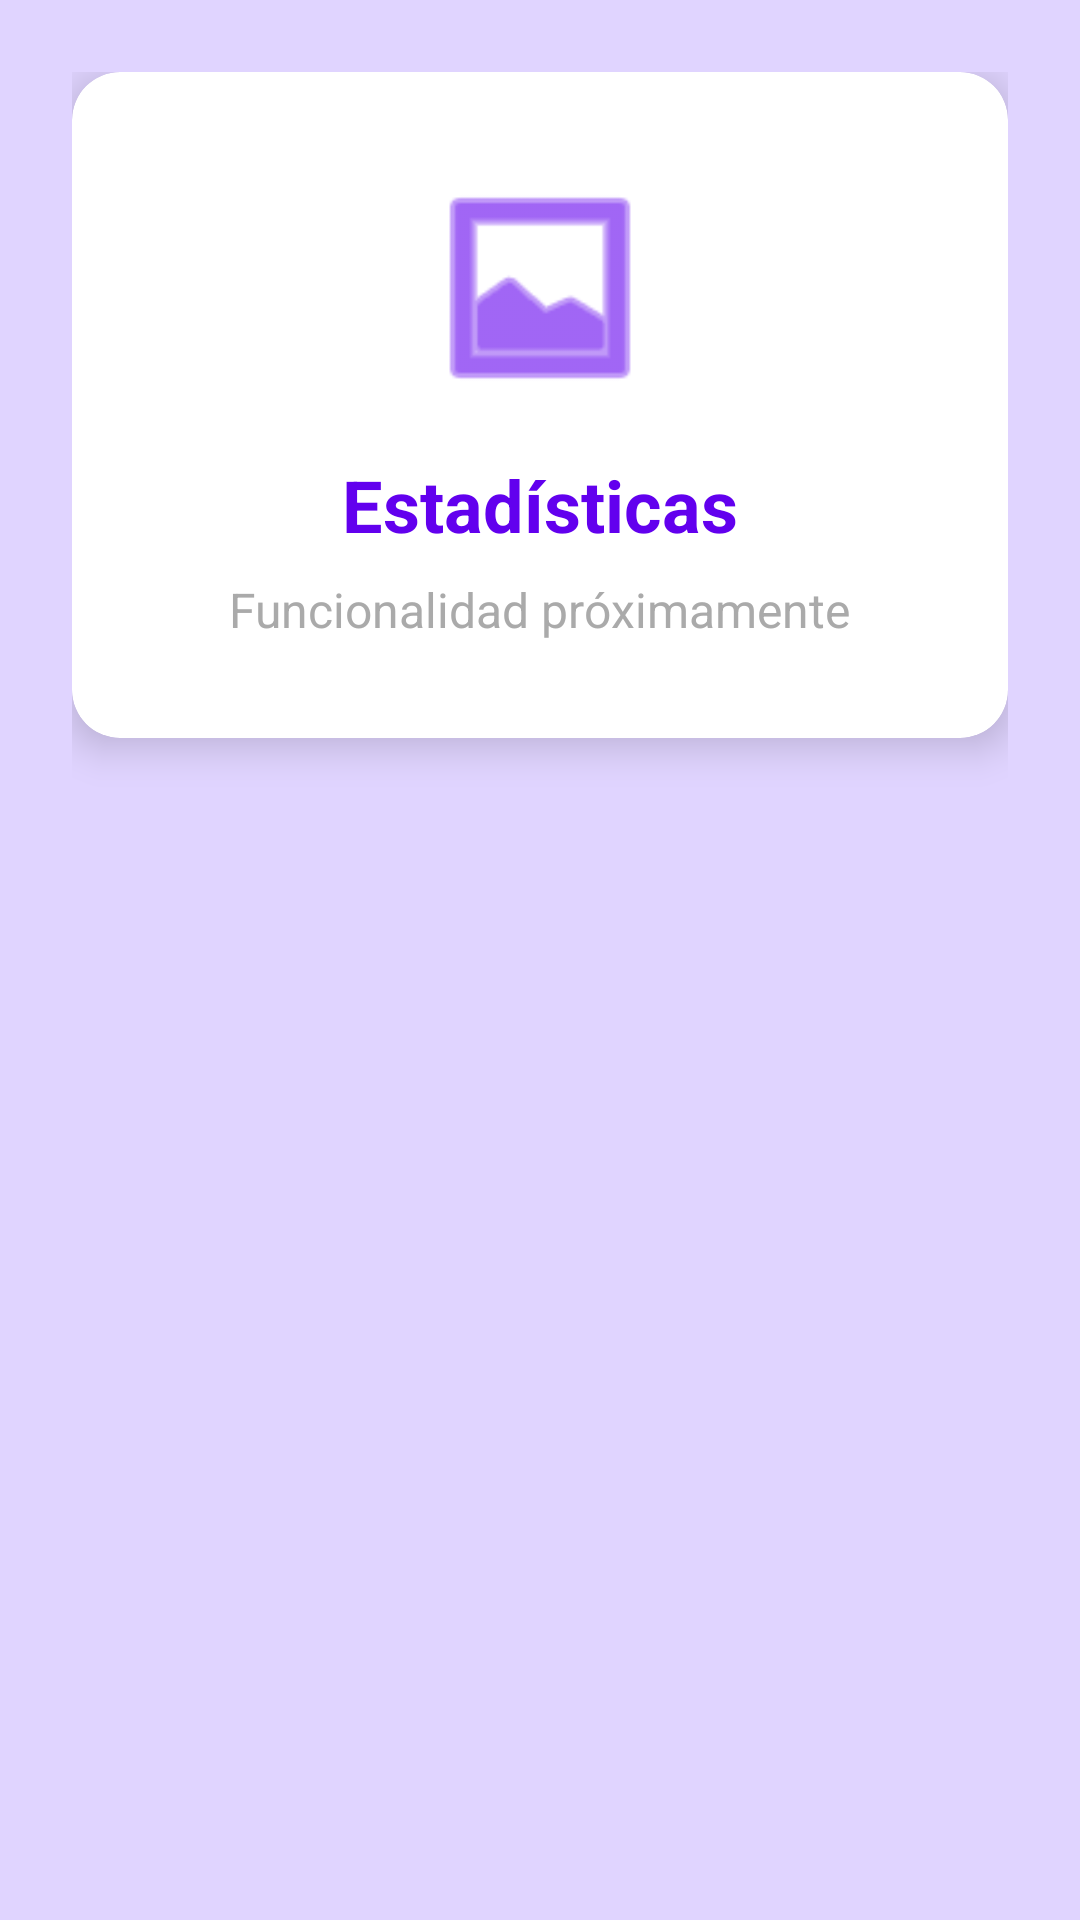

Where icons sit on this 1080px x 1920px app screen, as {"x1": x1, "y1": y1, "x2": x2, "y2": y2}:
gallery: {"x1": 449, "y1": 197, "x2": 631, "y2": 379}
